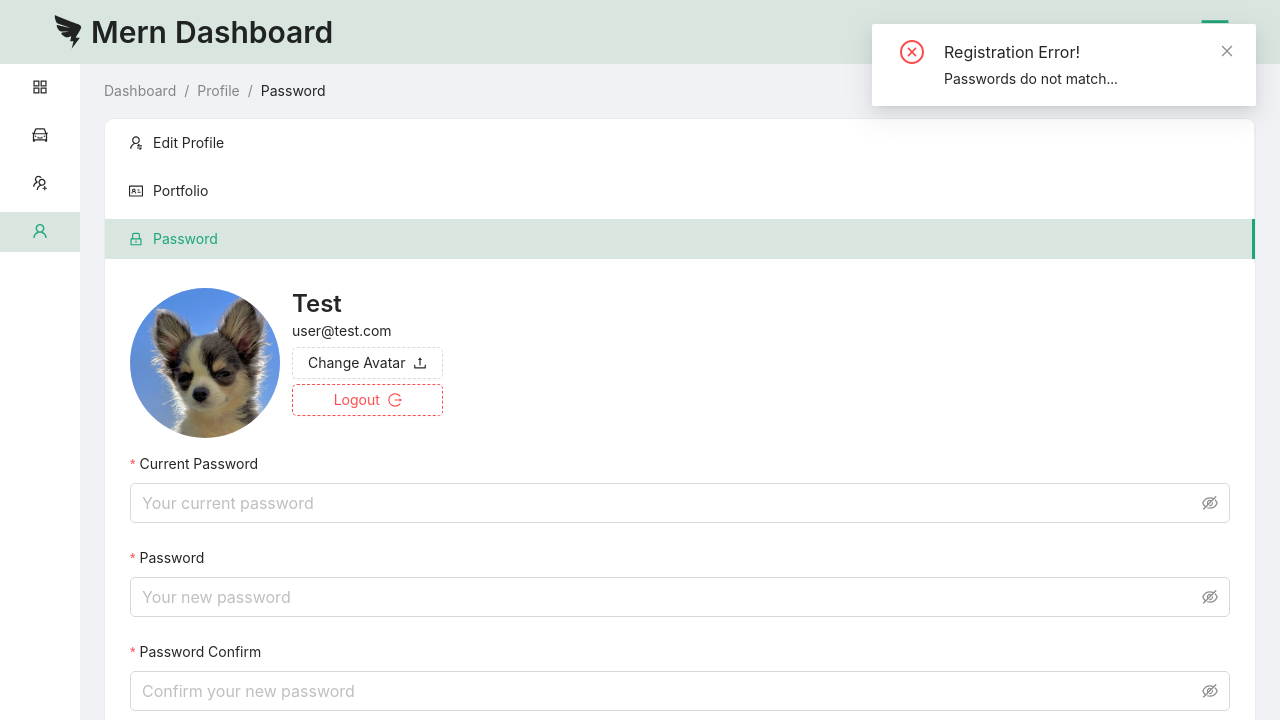
Test: Password › should successfully log out
The width and height of the screenshot is (1280, 720).
Click the button "Logout": click(368, 400) x1=292 y1=384 x2=444 y2=416
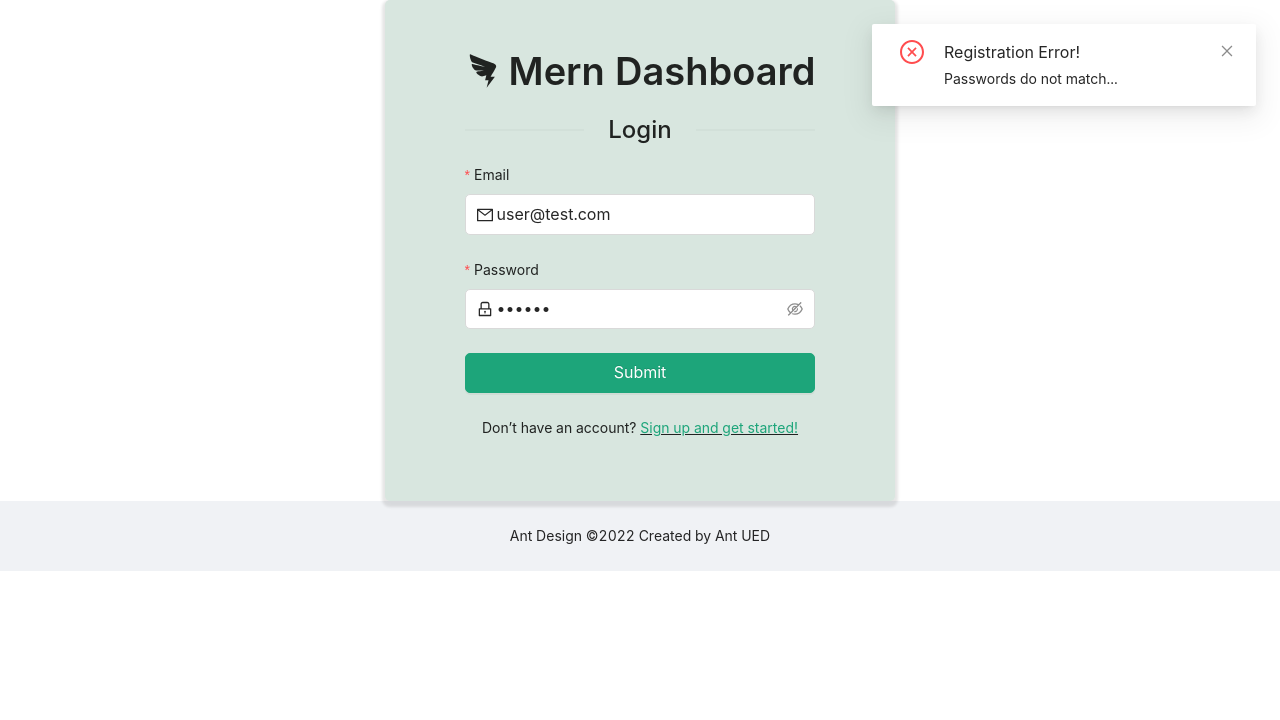
Expected: the link "Sign up and get started!" is shown, x1=640 y1=419 x2=798 y2=436
